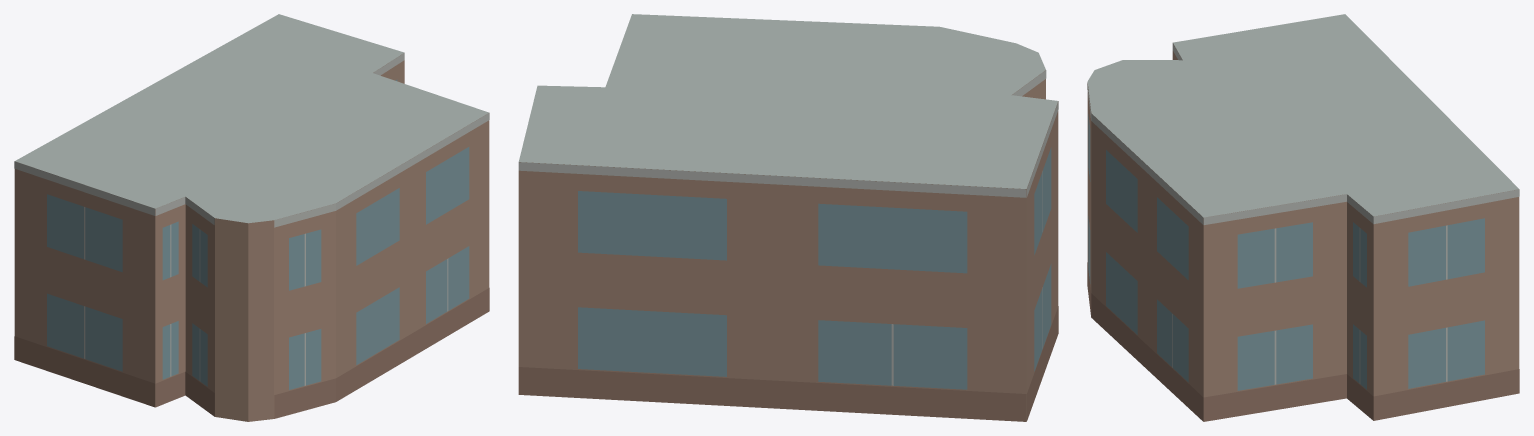
Rendered from survey-upis-32625243.glb.
The picture shows the model from 3 angles, left to right: view 1: azimuth 30°, elevation 25°; view 2: azimuth 150°, elevation 25°; view 3: azimuth 270°, elevation 25°; orthographic projection. The views are drawn at different scales.
Parts seen in each view (by area): view 1: survey-upis-32625243.tmp; view 2: survey-upis-32625243.tmp; view 3: survey-upis-32625243.tmp.
Part boxes in pixels (x1=…): survey-upis-32625243.tmp: x1=14, y1=14, x2=489, y2=421; survey-upis-32625243.tmp: x1=518, y1=14, x2=1058, y2=421; survey-upis-32625243.tmp: x1=1087, y1=14, x2=1519, y2=421.
Bounding box in the file's own units: 13.9 × 6.5 × 12.47.
